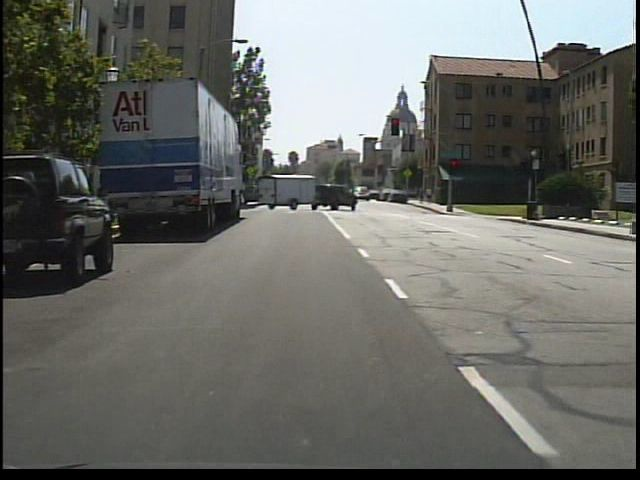person: (425, 184, 437, 210), (416, 186, 425, 208)
